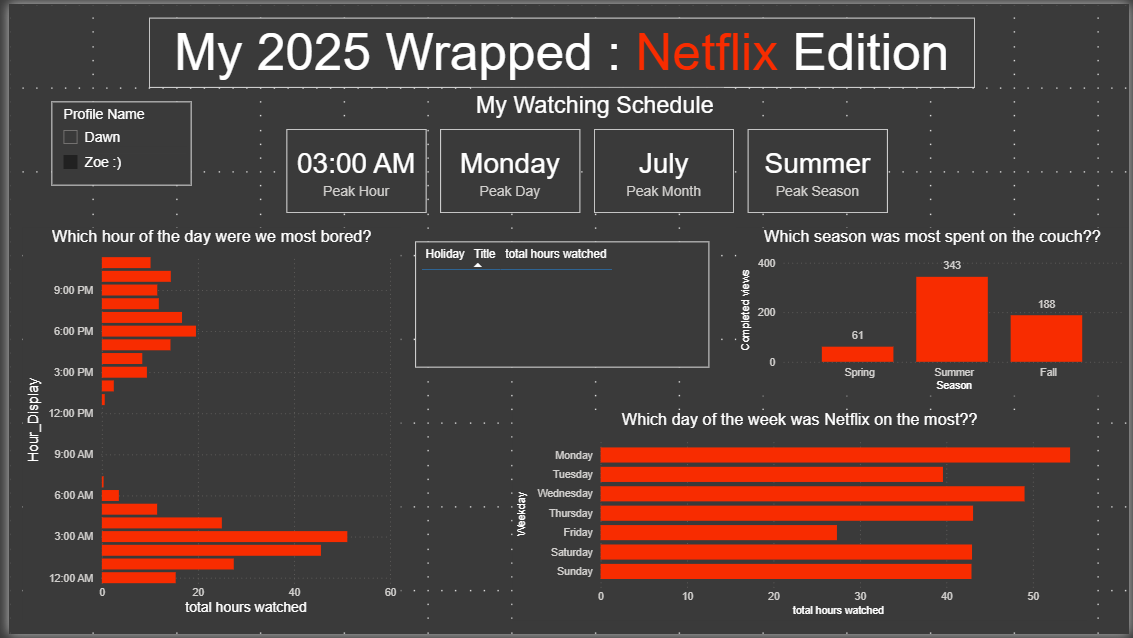

Layout of this report page (visuals, bound fields, positions):
{"tool":"powerbi","page":{"name":"Time","canvas":[1280,720],"ordinal":2},"visuals":[{"type":"barChart","title":"Which hour of the day were we most bored? ","fields":{"Category":["2025ViewingActivity (2).Hour_Display"],"Y":["2025ViewingActivity (2).total hours watched"]},"box":[16,256,432,448],"z":0},{"type":"barChart","title":"Which day of the week was Netflix on the most??","fields":{"Category":["DateTable.Weekday"],"Y":["2025ViewingActivity (2).total hours watched"]},"box":[576,464,656,240],"z":1000},{"type":"tableEx","fields":{"Values":["DateTable.Holiday","2025ViewingActivity (2).Title","2025ViewingActivity (2).total hours watched"]},"box":[464,272,336,144],"z":2000},{"type":"textbox","box":[160,16,944,80],"z":3000},{"type":"slicer","fields":{"Values":["2025ViewingActivity (2).Profile Name"]},"box":[48,112,160,96],"z":4000},{"type":"textbox","box":[528,96,288,48],"z":5000},{"type":"columnChart","title":"Which season was most spent on the couch?? ","fields":{"Category":["DateTable.Season"],"Y":["2025ViewingActivity (2).Completed views"]},"box":[832,256,448,192],"z":6000},{"type":"card","fields":{"Values":["2025ViewingActivity (2).Peak Month"]},"box":[668.6,142.9,160,96],"z":7000},{"type":"card","fields":{"Values":["2025ViewingActivity (2).Peak Day"]},"box":[492.6,142.9,160,96],"z":8000},{"type":"card","fields":{"Values":["2025ViewingActivity (2).Peak Hour"]},"box":[316.6,142.9,160,96],"z":9000},{"type":"card","fields":{"Values":["2025ViewingActivity (2).Peak Season"]},"box":[844.6,142.9,160,96],"z":10000}]}

Visuals, with their boxes in screenshot pixels (x1, y1, x2, y2), scaled from the page's 1280x720 canvas onto the 1133x638 screenshot:
"Which hour of the day were we most bored? " barChart: pyautogui.locateOnScreen(14, 227, 397, 624)
"Which day of the week was Netflix on the most??" barChart: pyautogui.locateOnScreen(510, 411, 1091, 624)
tableEx - DateTable.Holiday x 2025ViewingActivity (2).Title: pyautogui.locateOnScreen(411, 241, 708, 369)
textbox: pyautogui.locateOnScreen(142, 14, 977, 85)
slicer - 2025ViewingActivity (2).Profile Name: pyautogui.locateOnScreen(42, 99, 184, 184)
textbox: pyautogui.locateOnScreen(467, 85, 722, 128)
"Which season was most spent on the couch?? " columnChart: pyautogui.locateOnScreen(736, 227, 1132, 397)
card - 2025ViewingActivity (2).Peak Month: pyautogui.locateOnScreen(592, 127, 733, 212)
card - 2025ViewingActivity (2).Peak Day: pyautogui.locateOnScreen(436, 127, 578, 212)
card - 2025ViewingActivity (2).Peak Hour: pyautogui.locateOnScreen(280, 127, 422, 212)
card - 2025ViewingActivity (2).Peak Season: pyautogui.locateOnScreen(748, 127, 889, 212)
